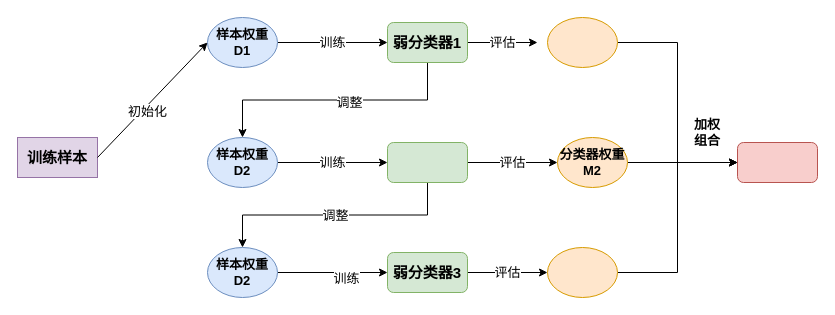
The diagram is 835 pixels wide and 315 high, and some of its shapes have lost their labels. Each missing label, with the box of its shape:
分类器权重M1: (546, 16, 618, 68)
分类器权重M3: (546, 246, 618, 298)
弱分类器2: (386, 142, 468, 182)
强分类器: (736, 142, 818, 182)
